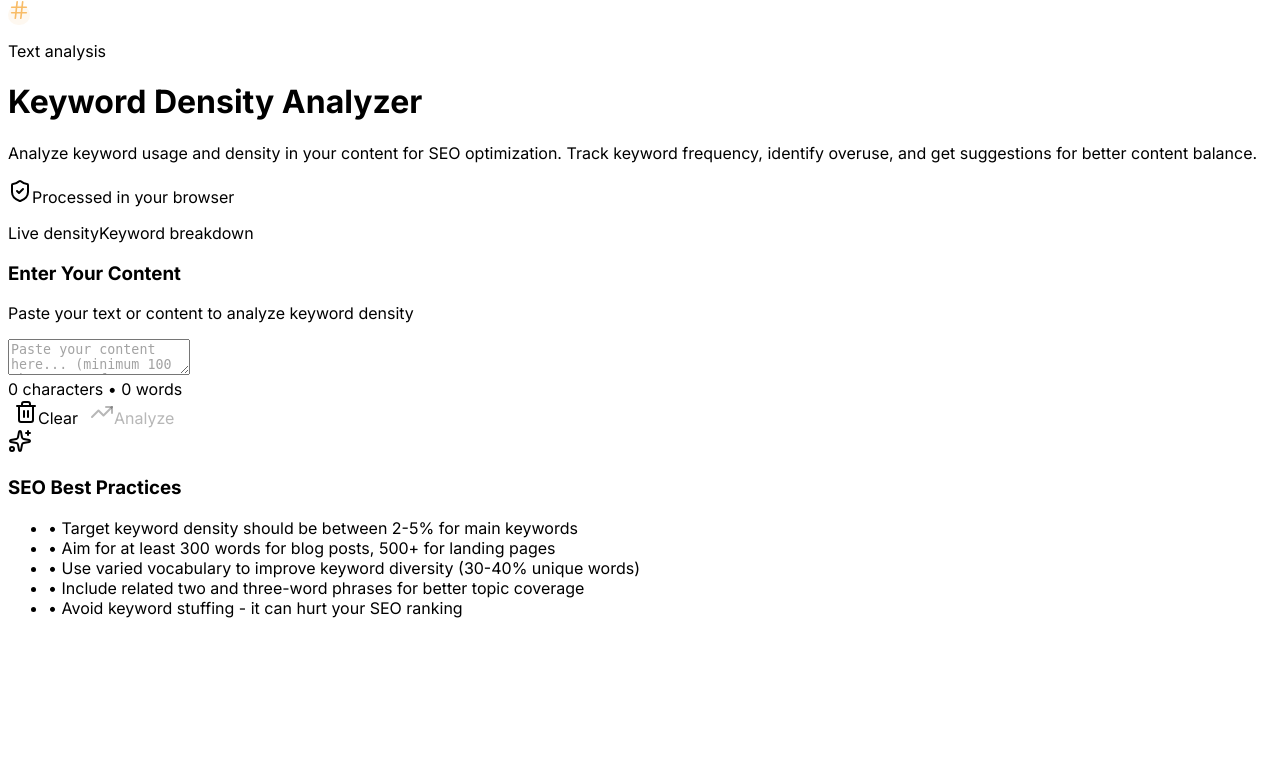
Scenario: Keyword Density Analyzer Page › Keyword Analysis › displays top keywords after analysis
The image size is (1280, 757).
Replace the text in the text box with placeholder "Paste your content here" with "keyword keyword keyword test test optimization optimization optimization" at (99, 357), box [8,339,190,375]
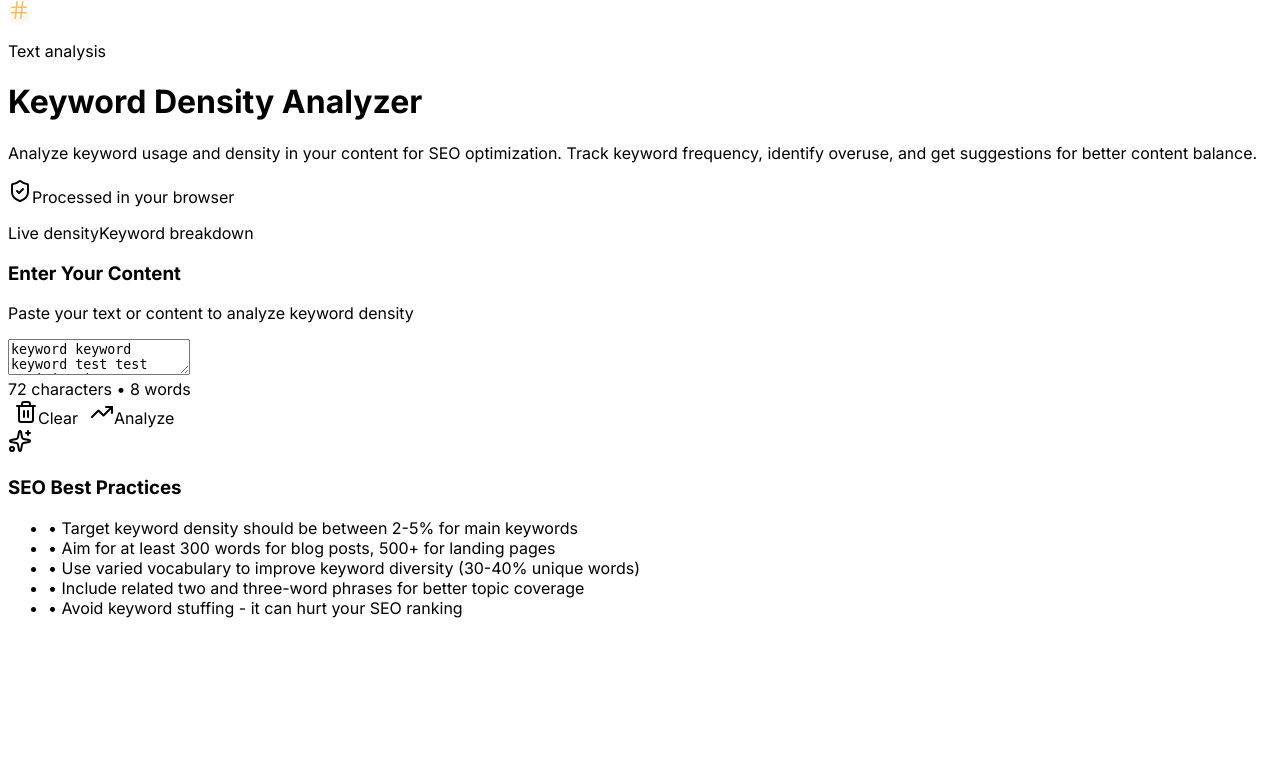
Click the button "Analyze" at (132, 414), box [84,399,180,429]
(page scrolled)
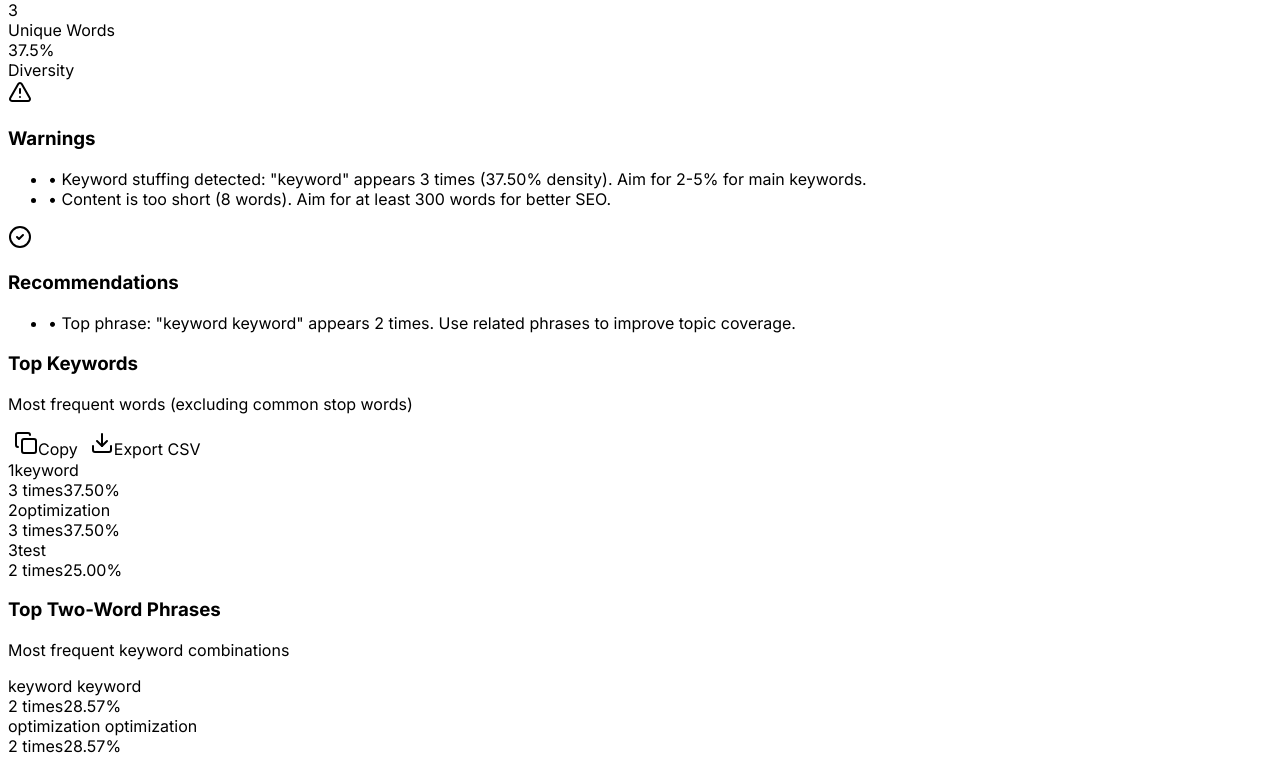
Now the heading "Top Keywords" is shown, box [8,352,138,375]
